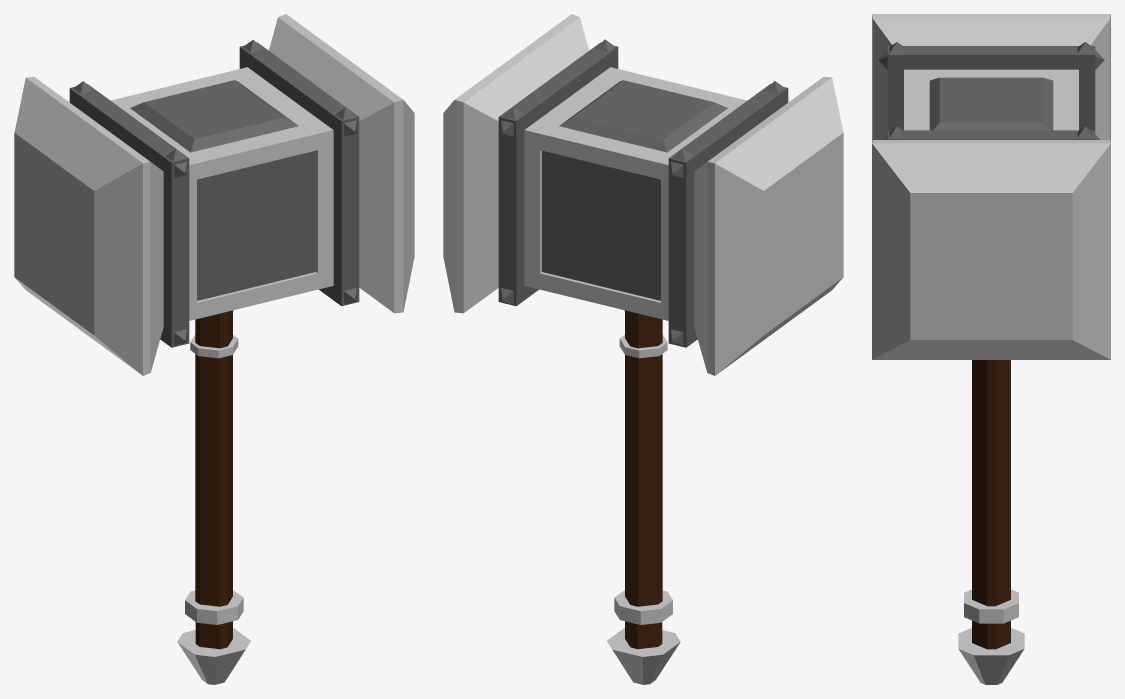
The model's file is Hammer.fbx.
3 renders of one model, left to right at view 1: azimuth 30°, elevation 25°; view 2: azimuth 150°, elevation 25°; view 3: azimuth 270°, elevation 25°, orthographic.
Parts seen in each view (by area): view 1: Cube; view 2: Cube; view 3: Cube.
Boxes of the visible parts, left/top/right/bottom form: Cube: left=14, top=14, right=414, bottom=684; Cube: left=443, top=14, right=843, bottom=684; Cube: left=872, top=14, right=1110, bottom=684.
Bounding box in the file's own units: 808 × 1425 × 512.
